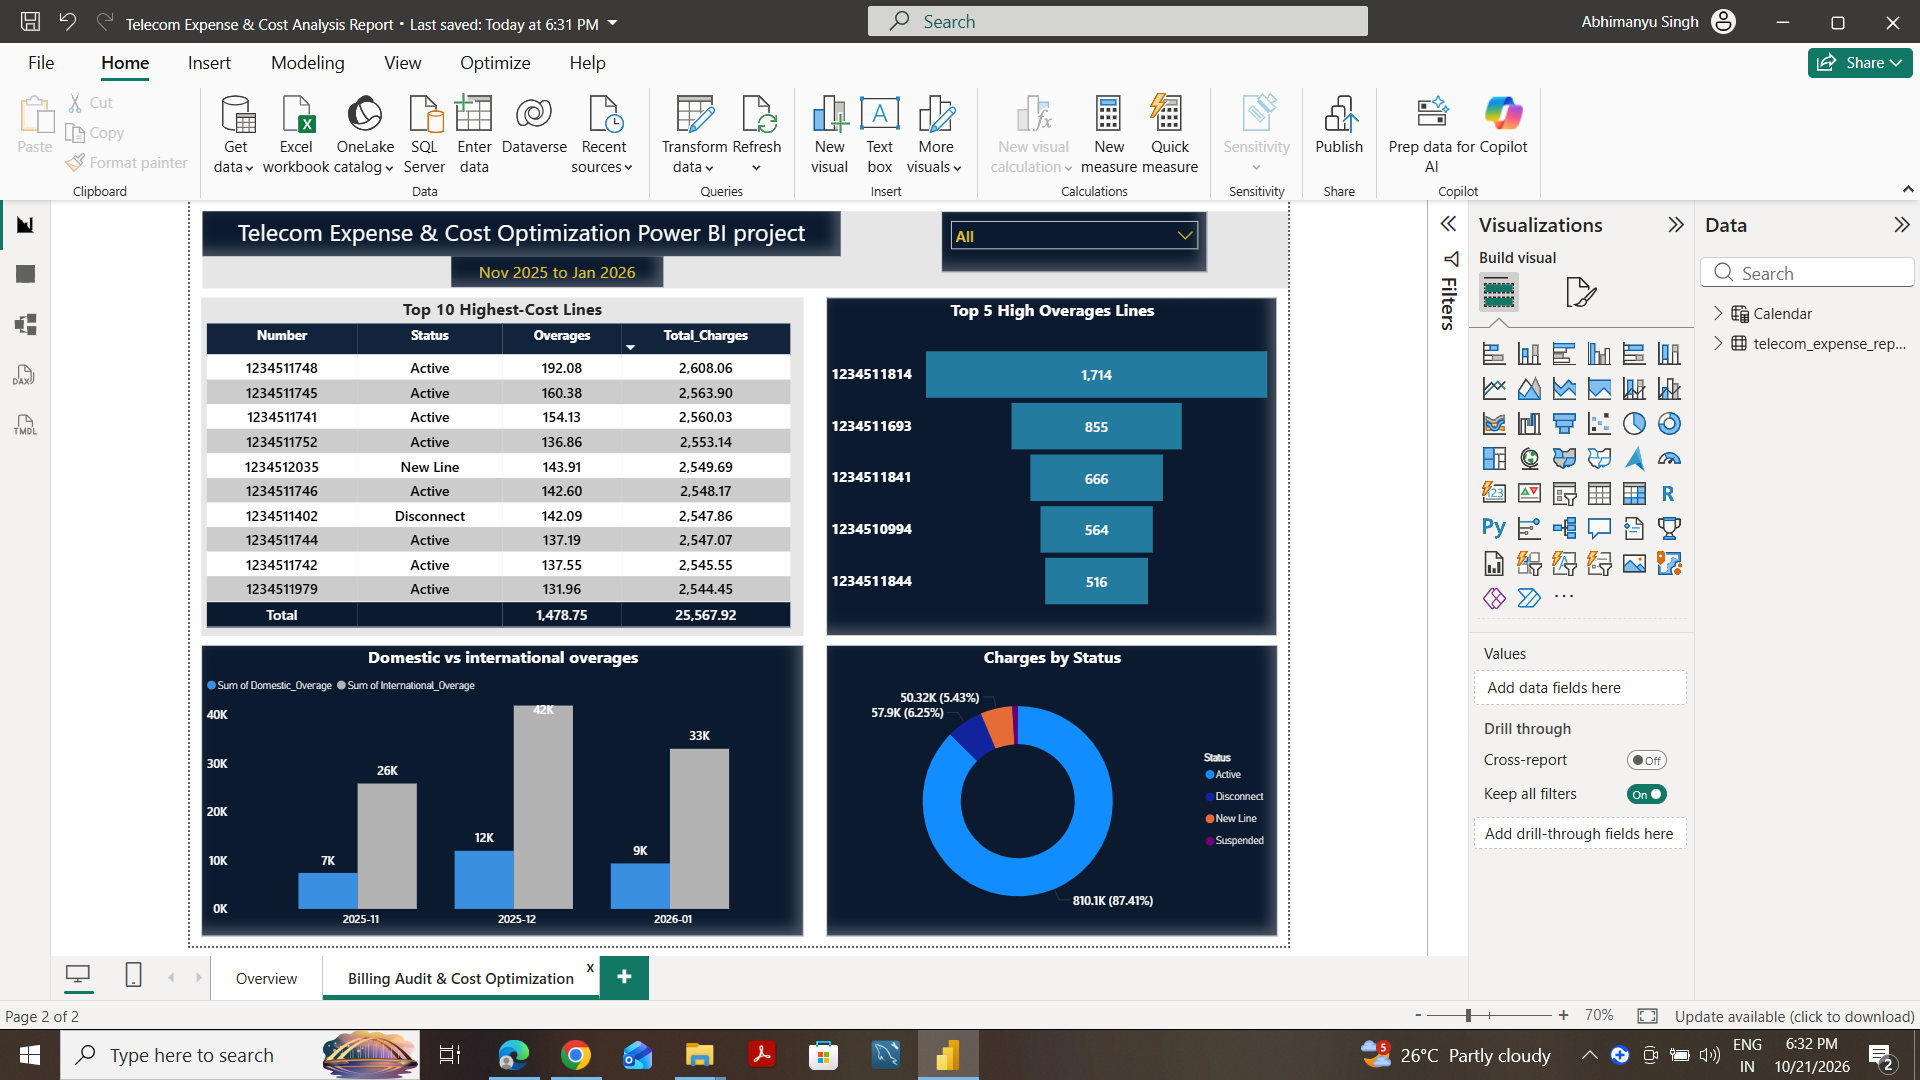

This screenshot's page, from the dashboard's own definition file:
{"tool":"powerbi","page":{"name":"Billing Audit & Cost Optimization","canvas":[1250,850],"ordinal":1},"visuals":[{"type":"textbox","box":[13.7,12.3,1257,87.8],"z":0},{"type":"textbox","box":[14.7,13.3,727.5,51.5],"z":1000},{"type":"textbox","box":[297.5,64.8,241.5,35.3],"z":2000},{"type":"clusteredColumnChart","title":"Domestic vs International Overages","fields":{"Y":["Sum(telecom_expense_report telecom_data.Domestic_Overage)","Sum(telecom_expense_report telecom_data.International_Overage)"],"Category":["Calendar.Year_Month"]},"box":[12.8,507,686.5,331.9],"z":3000},{"type":"slicer","fields":{"Values":["Calendar.Month_Name"]},"box":[855.6,13.3,303.4,69.2],"z":4000},{"type":"tableEx","title":"Top 10 Highest-Cost Lines","fields":{"Values":["telecom_expense_report telecom_data.Number","telecom_expense_report telecom_data.Status","Sum(telecom_expense_report telecom_data.Overages)","Sum(telecom_expense_report telecom_data.Total_Charges)"]},"box":[12.8,111.1,686.5,386],"z":5000},{"type":"donutChart","title":"Charges by Status","fields":{"Category":["telecom_expense_report telecom_data.Status"],"Y":["Sum(telecom_expense_report telecom_data.Total_Charges)"]},"box":[725,507,514.2,331.9],"z":6000},{"type":"funnel","title":"Top 5 High Overages Lines","fields":{"Category":["telecom_expense_report telecom_data.Number"],"Y":["Sum(telecom_expense_report telecom_data.Overages)"]},"box":[724.6,110.5,514,385.8],"z":7000}]}

Visuals, with their boxes on the page's 1250x850 design canvas (x1, y1, x2, y2). These are canvas units, not pixel positions in the 1920x1080 screenshot, which may show the page scaled, cropped or inside an application window:
textbox: region(14, 12, 1271, 100)
textbox: region(15, 13, 742, 65)
textbox: region(298, 65, 539, 100)
"Domestic vs International Overages" clusteredColumnChart: region(13, 507, 699, 839)
slicer - Calendar.Month_Name: region(856, 13, 1159, 82)
"Top 10 Highest-Cost Lines" tableEx: region(13, 111, 699, 497)
"Charges by Status" donutChart: region(725, 507, 1239, 839)
"Top 5 High Overages Lines" funnel: region(725, 110, 1239, 496)
